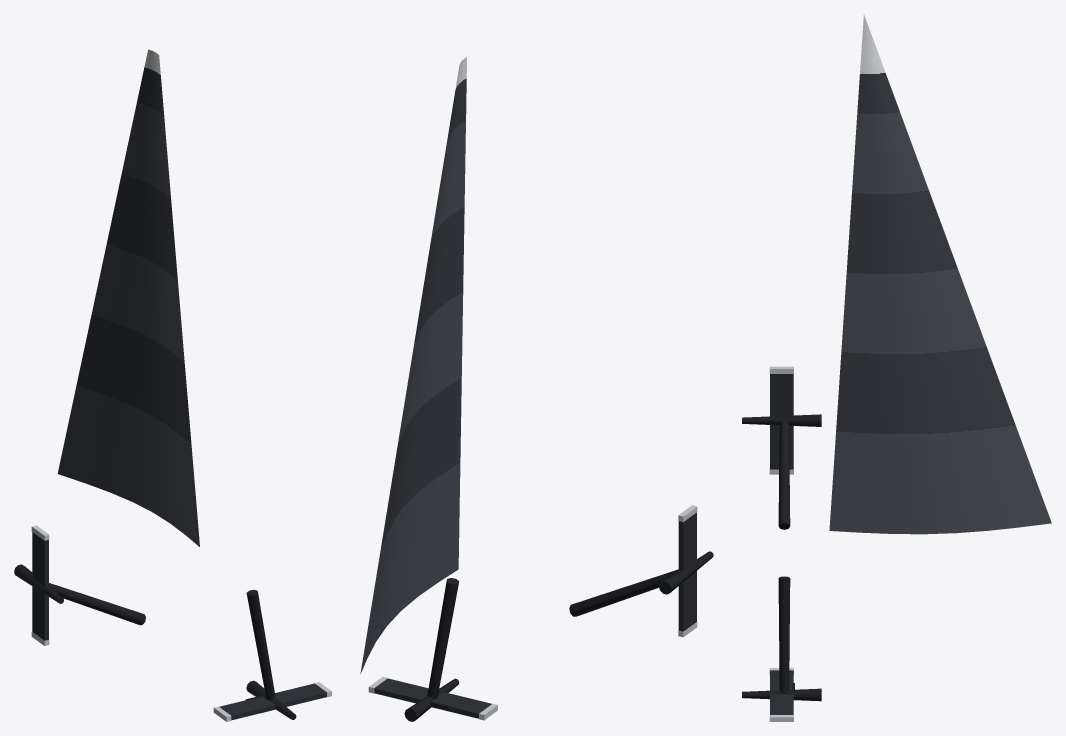
Rendered from foils_s.glb.
3 renders of one model, left to right at view 1: azimuth 30°, elevation 25°; view 2: azimuth 150°, elevation 25°; view 3: azimuth 270°, elevation 25°, orthographic. The views are drawn at different scales.
Visible parts, largest first — view 1: foils_s_body; view 2: foils_s_body; view 3: foils_s_body.
Part boxes in pixels (box(x1,y1,x2,y2)): foils_s_body: box(14, 49, 331, 721); foils_s_body: box(360, 57, 713, 721); foils_s_body: box(742, 15, 1051, 721).
Size of the model in its own units: 12.14 by 27.15 by 11.7.
1 material, 1 textured.
